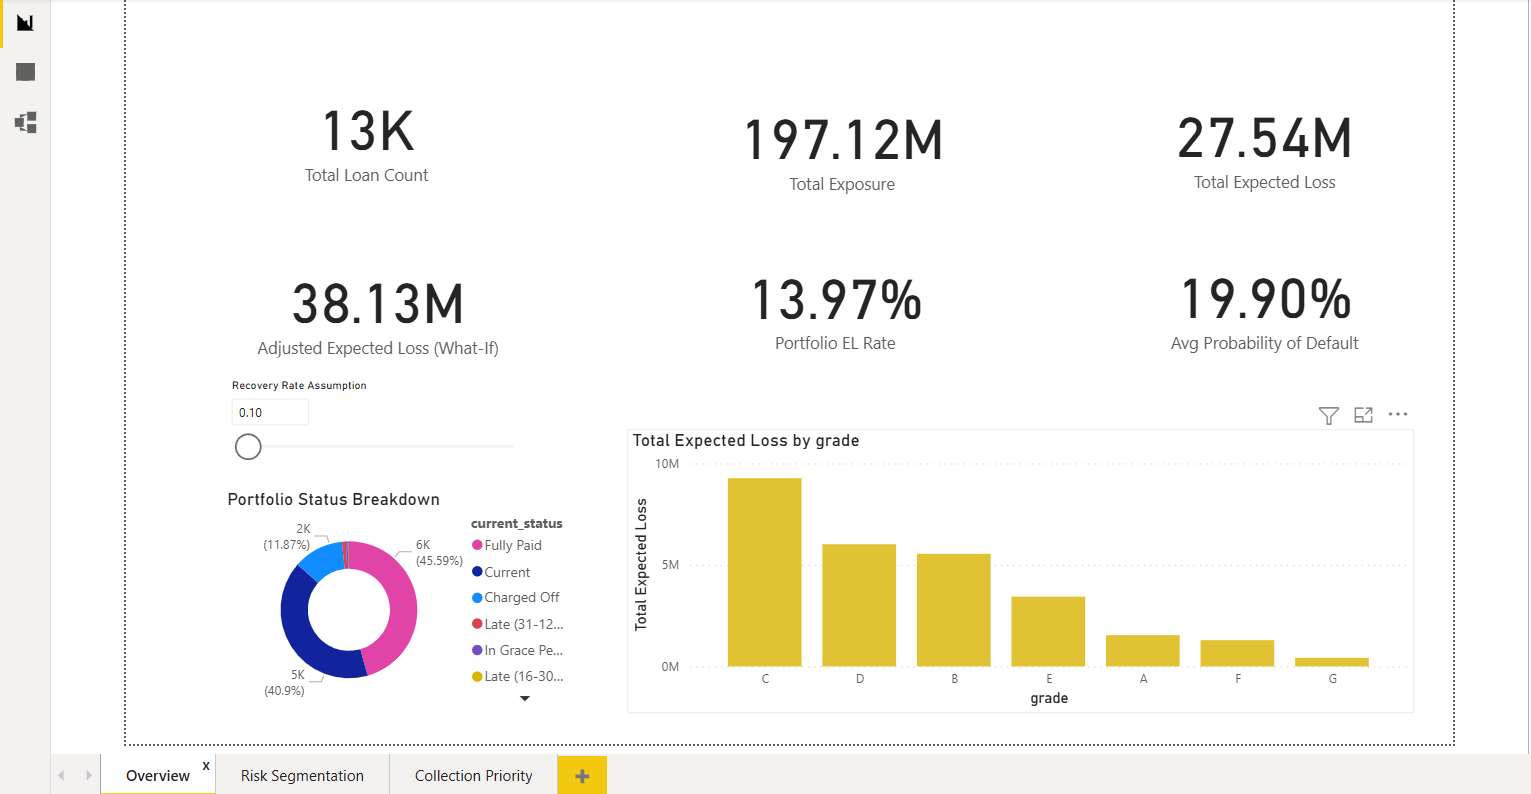

Layout of this report page (visuals, bound fields, positions):
{"tool":"powerbi","page":{"name":"Overview","canvas":[1280,720],"ordinal":0},"visuals":[{"type":"slicer","fields":{"Values":["Recovery Rate Assumption.Recovery Rate Assumption"]},"box":[89.2,362.2,307.3,108.4],"z":0},{"type":"card","fields":{"Values":["loans_flat.Total Exposure"]},"box":[551.5,82.7,280.1,114.6],"z":1000},{"type":"card","fields":{"Values":["loans_flat.Total Expected Loss"]},"box":[954.9,79.8,287.3,117.6],"z":2000},{"type":"card","fields":{"Values":["loans_flat.Portfolio EL Rate"]},"box":[538.4,243.8,293.2,101.6],"z":3000},{"type":"card","fields":{"Values":["loans_flat.Total Loan Count"]},"box":[92.9,66.8,278.6,130.6],"z":4000},{"type":"card","fields":{"Values":["loans_flat.Avg Probability of Default"]},"box":[954.9,238,287.3,113.2],"z":5000},{"type":"card","fields":{"Values":["loans_flat.Adjusted Expected Loss (What-If)"]},"box":[45.3,245.6,395.1,105.6],"z":6000},{"type":"clusteredColumnChart","fields":{"Y":["loans_flat.Total Expected Loss"],"Category":["loans_flat.grade"]},"box":[483.3,416.5,759,272.8],"z":7000},{"type":"donutChart","title":"Portfolio Status Breakdown","fields":{"Category":["loans_flat.current_status"],"Y":["loans_flat.Total Loan Count"]},"box":[92.9,473.1,346.8,216.2],"z":8000}]}

Visuals, with their boxes on the page's 1280x720 design canvas (x1, y1, x2, y2). These are canvas units, not pixel positions in the 1531x794 screenshot, which may show the page scaled, cropped or inside an application window:
slicer - Recovery Rate Assumption.Recovery Rate Assumption: (x1=89, y1=362, x2=396, y2=471)
card - loans_flat.Total Exposure: (x1=552, y1=83, x2=832, y2=197)
card - loans_flat.Total Expected Loss: (x1=955, y1=80, x2=1242, y2=197)
card - loans_flat.Portfolio EL Rate: (x1=538, y1=244, x2=832, y2=345)
card - loans_flat.Total Loan Count: (x1=93, y1=67, x2=372, y2=197)
card - loans_flat.Avg Probability of Default: (x1=955, y1=238, x2=1242, y2=351)
card - loans_flat.Adjusted Expected Loss (What-If): (x1=45, y1=246, x2=440, y2=351)
clusteredColumnChart - loans_flat.Total Expected Loss x loans_flat.grade: (x1=483, y1=416, x2=1242, y2=689)
"Portfolio Status Breakdown" donutChart: (x1=93, y1=473, x2=440, y2=689)
